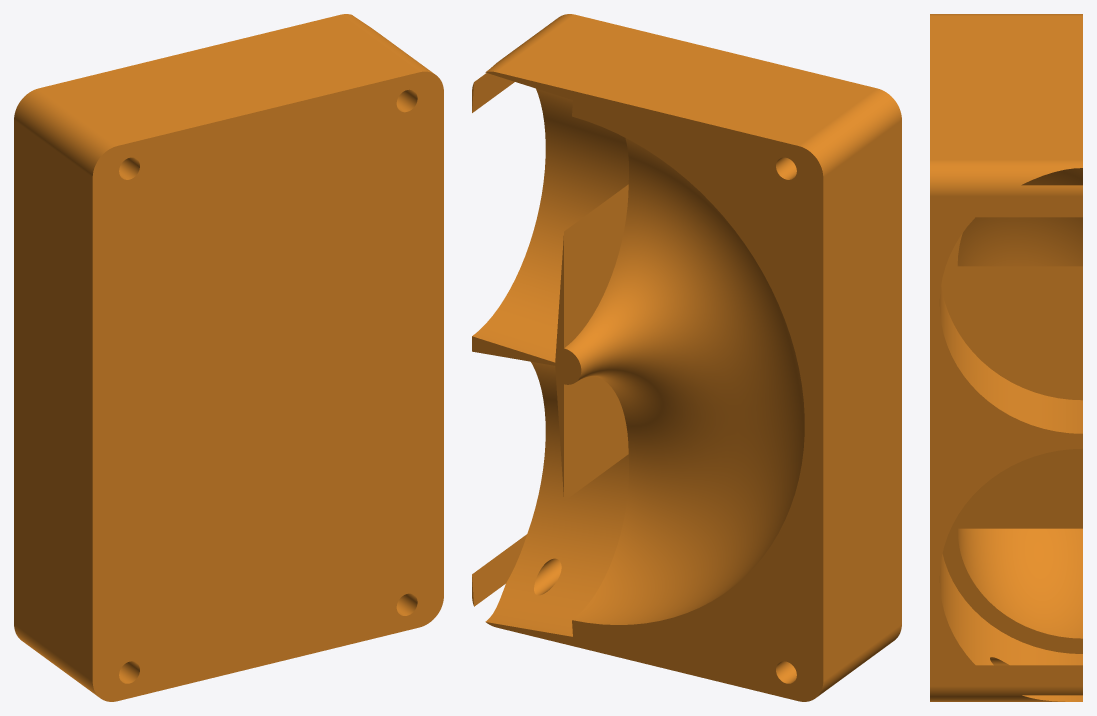
File: mag_u_esq_f.glb
3 views of the same model, side by side, from view 1: azimuth 30°, elevation 25°; view 2: azimuth 150°, elevation 25°; view 3: azimuth 270°, elevation 25° (orthographic). The views are drawn at different scales.
Parts seen in each view (by area): view 1: mag_u_esq_f; view 2: mag_u_esq_f; view 3: mag_u_esq_f.
Part boxes in pixels (bbox=[...]): mag_u_esq_f: bbox=[14, 14, 443, 701]; mag_u_esq_f: bbox=[472, 14, 901, 701]; mag_u_esq_f: bbox=[930, 14, 1082, 701].
Size of the model in its own units: 57.2 by 86.4 by 22.2.
